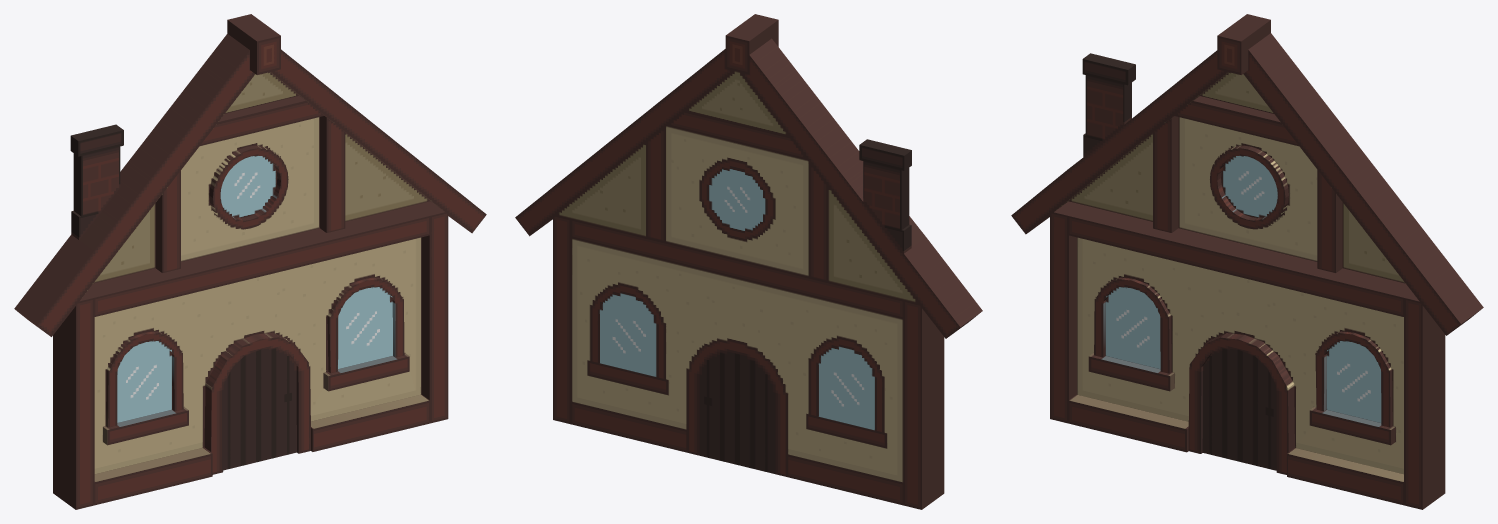
Rendered from House_03.fbx.
The picture shows the model from 3 angles, left to right: view 1: azimuth 30°, elevation 25°; view 2: azimuth 150°, elevation 25°; view 3: azimuth 330°, elevation 25°; orthographic projection.
Parts seen in each view (by area): view 1: L0_builing-3_1500px; view 2: L0_builing-3_1500px; view 3: L0_builing-3_1500px.
Part boxes in pixels (x1,y1,x2,y2): L0_builing-3_1500px: (14, 14, 486, 509); L0_builing-3_1500px: (515, 14, 982, 509); L0_builing-3_1500px: (1011, 14, 1483, 509).
Size of the model in its own units: 438 by 401 by 50.04.
